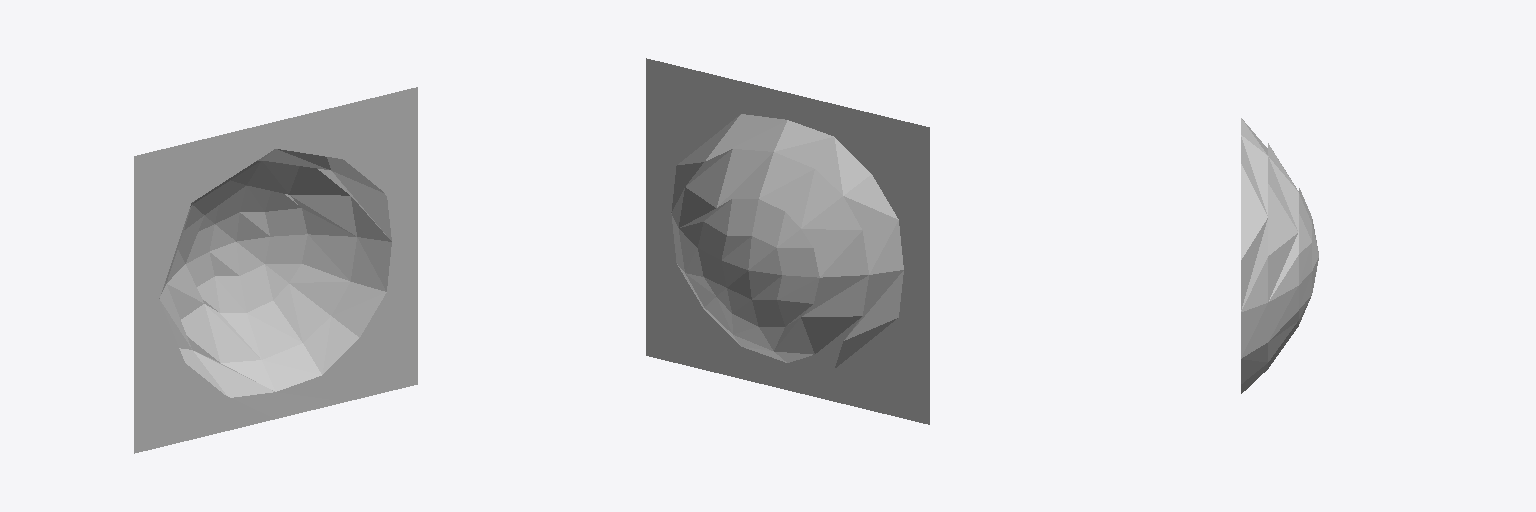
Rendered from hole_01.obj.
The picture shows the model from 3 angles: view 1: azimuth 30°, elevation 25°; view 2: azimuth 150°, elevation 25°; view 3: azimuth 270°, elevation 25°; orthographic projection.
Parts seen in each view (by area): view 1: Cube; view 2: Cube; view 3: Cube.
Part boxes in pixels (x1,y1,x2,y2): Cube: (134, 87, 417, 453); Cube: (646, 58, 929, 424); Cube: (1241, 118, 1318, 393).
Bounding box in the file's own units: 5 × 5 × 1.2.